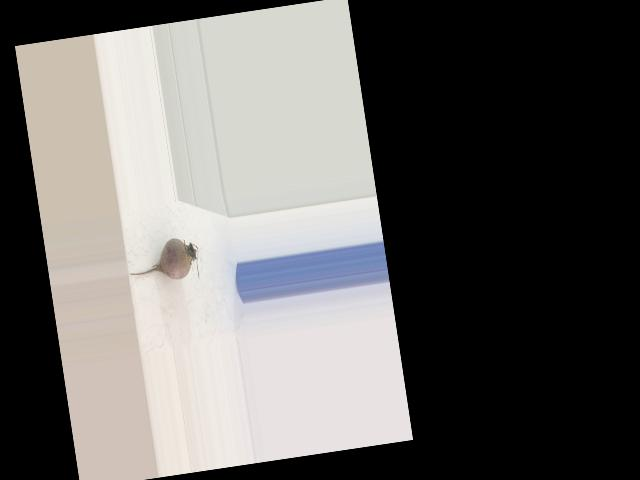beet: (125, 235, 202, 289)
